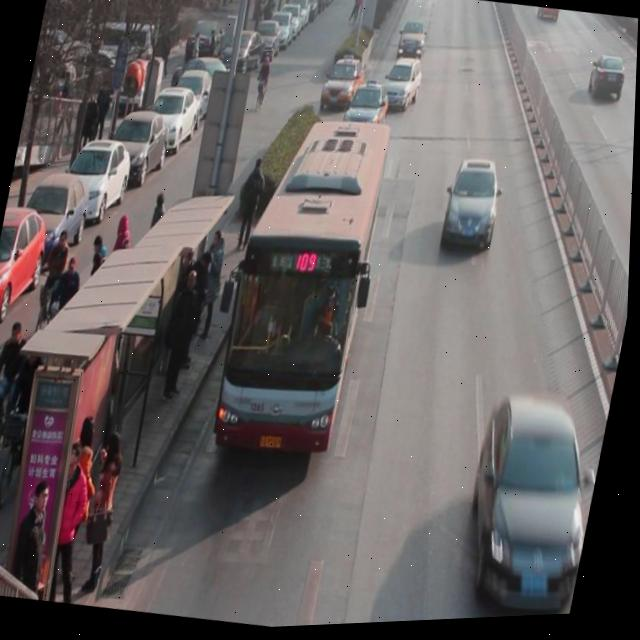car: (455, 393, 614, 623), (441, 160, 508, 259), (319, 57, 368, 120), (380, 59, 426, 120), (345, 79, 394, 136), (587, 58, 629, 108), (396, 21, 429, 65), (536, 11, 560, 29)
van: (207, 111, 391, 459)
